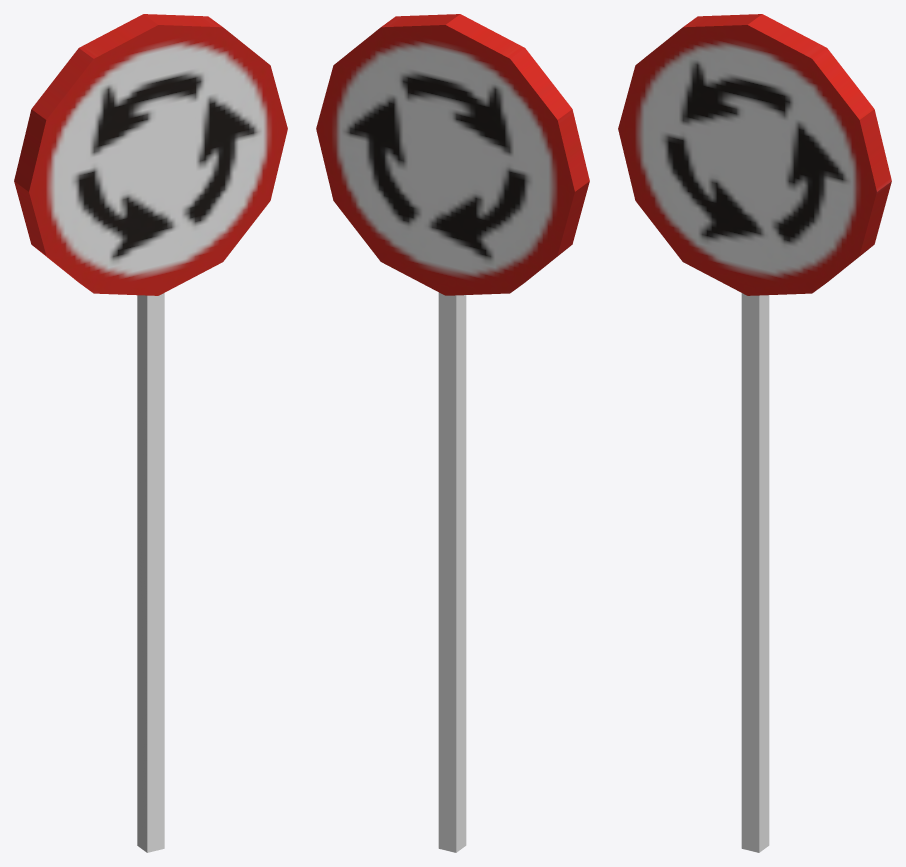
The model's file is PlacaRotatoria.fbx.
3 views of the same model, side by side, from view 1: azimuth 30°, elevation 25°; view 2: azimuth 150°, elevation 25°; view 3: azimuth 330°, elevation 25° (orthographic).
Parts seen in each view (by area): view 1: Placa-Rotatoria-12; view 2: Placa-Rotatoria-12; view 3: Placa-Rotatoria-12.
Part boxes in pixels (x1=…): Placa-Rotatoria-12: x1=14, y1=14, x2=287, y2=852; Placa-Rotatoria-12: x1=316, y1=14, x2=589, y2=852; Placa-Rotatoria-12: x1=618, y1=14, x2=891, y2=852.
Size of the model in its own units: 0.7576 by 2.31 by 0.0758.
